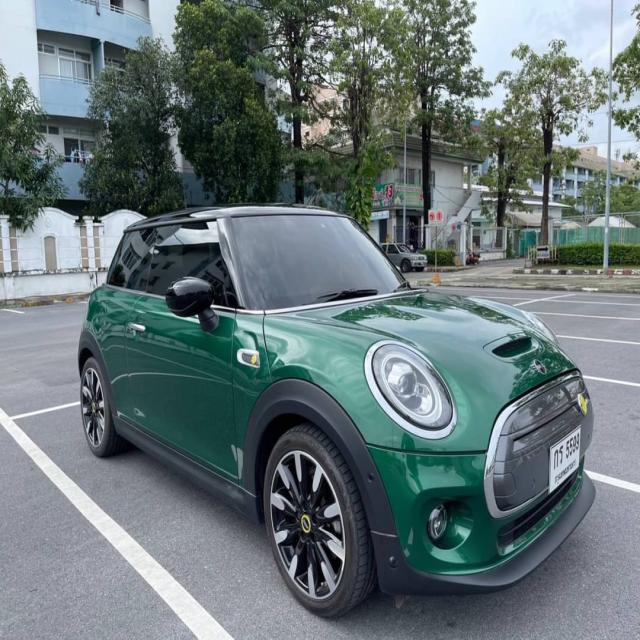license_plate: (548, 421, 582, 498)
